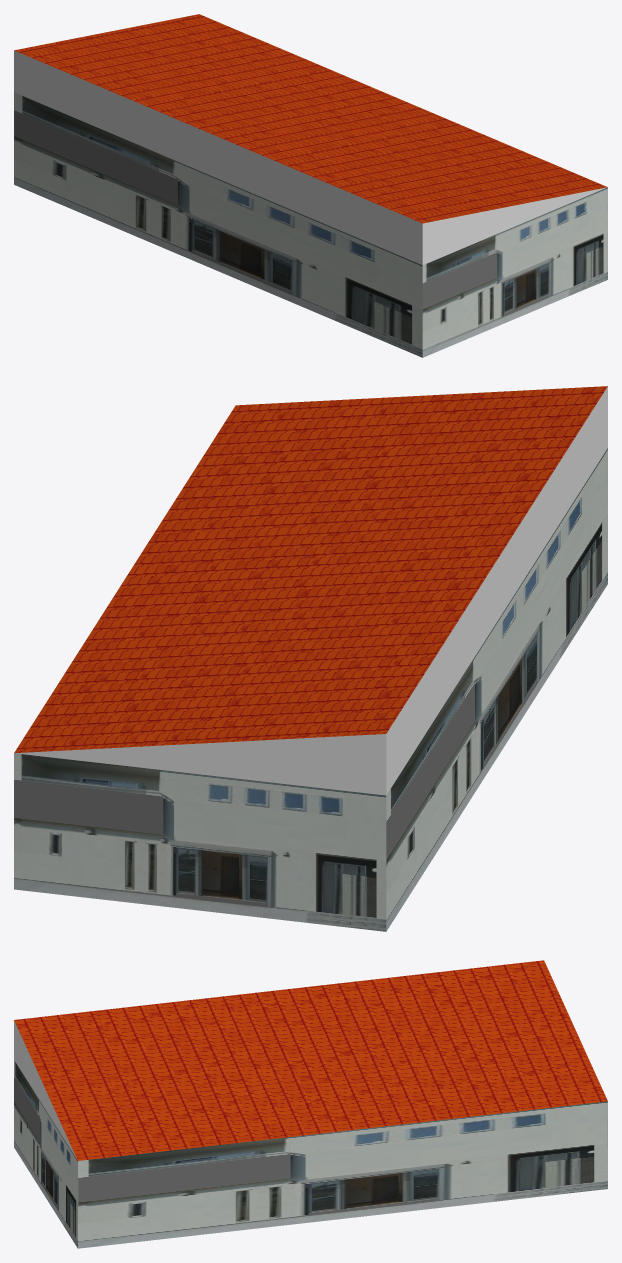
3 views of the same model, one above another, from view 1: azimuth 30°, elevation 25°; view 2: azimuth 150°, elevation 25°; view 3: azimuth 270°, elevation 25° (orthographic). The views are drawn at different scales.
Parts seen in each view (by area): view 1: CityEngineMaterial_11_m, CityEngineMaterial_12_m, CityEngineMaterial_3_m; view 2: CityEngineMaterial_12_m, CityEngineMaterial_11_m, CityEngineMaterial_3_m; view 3: CityEngineMaterial_12_m, CityEngineMaterial_11_m, CityEngineMaterial_3_m.
Boxes of the visible parts, <box> form: CityEngineMaterial_11_m: <box>14,92,607,357</box>; CityEngineMaterial_12_m: <box>14,14,607,223</box>; CityEngineMaterial_3_m: <box>14,50,606,265</box>; CityEngineMaterial_12_m: <box>14,386,607,753</box>; CityEngineMaterial_11_m: <box>14,448,607,931</box>; CityEngineMaterial_3_m: <box>15,386,607,795</box>; CityEngineMaterial_12_m: <box>14,960,607,1160</box>; CityEngineMaterial_11_m: <box>14,1060,607,1248</box>; CityEngineMaterial_3_m: <box>14,1020,77,1160</box>.
Bounding box in the file's own units: 22.24 × 8.2 × 34.67.
